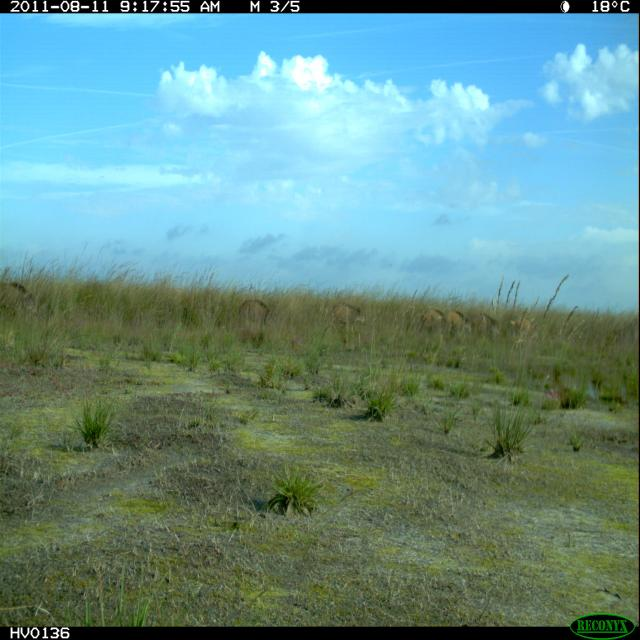boar: (225, 282, 278, 337), (316, 288, 370, 340), (471, 304, 516, 347), (445, 302, 476, 349), (414, 295, 440, 340)
